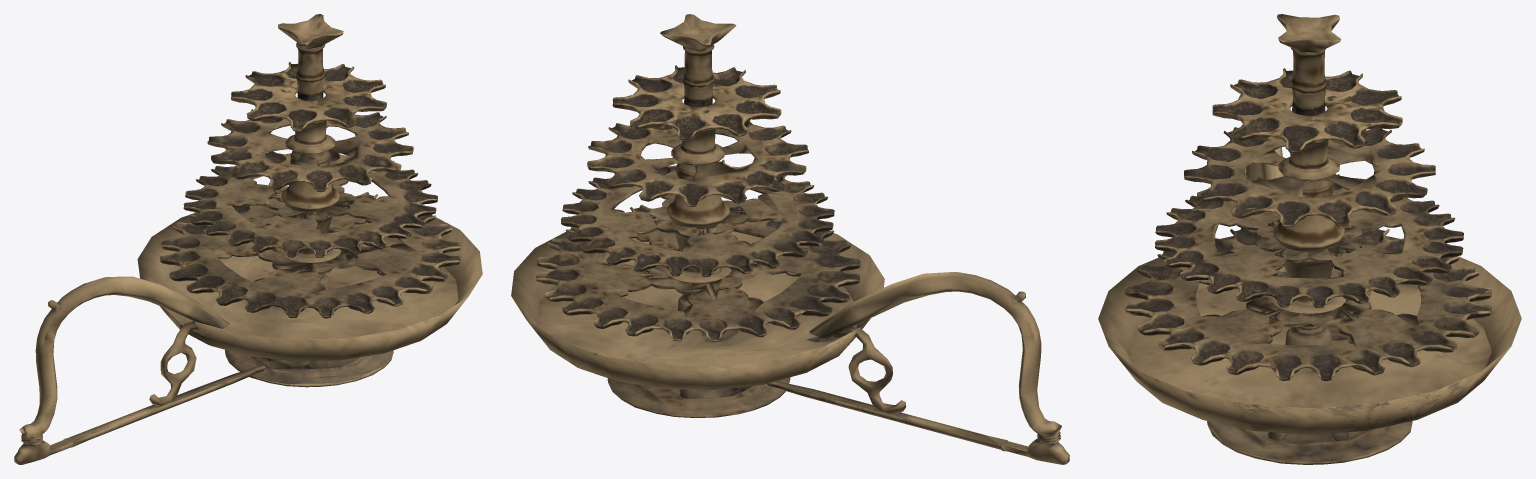
The model's file is traditional.glb.
3 views of the same model, side by side, from view 1: azimuth 30°, elevation 25°; view 2: azimuth 150°, elevation 25°; view 3: azimuth 270°, elevation 25° (orthographic). The views are drawn at different scales.
Parts seen in each view (by area): view 1: pPlane67, polySurface8; view 2: pPlane67, polySurface8; view 3: pPlane67, polySurface8.
Part boxes in pixels (<box>): pPlane67: <box>160,62,461,318</box>; polySurface8: <box>14,14,482,464</box>; pPlane67: <box>536,65,860,341</box>; polySurface8: <box>511,14,1069,464</box>; pPlane67: <box>1125,68,1491,381</box>; polySurface8: <box>1098,14,1521,464</box>.
Size of the model in its own units: 0.1877 by 0.1306 by 0.1204.
Materials: 2 (2 with a texture image).
